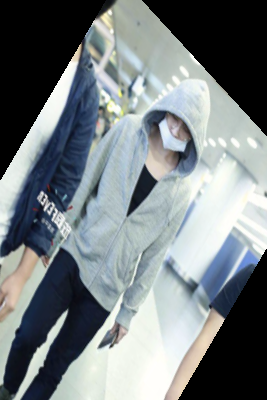mask_weared_incorrect: (144, 74, 222, 172)
